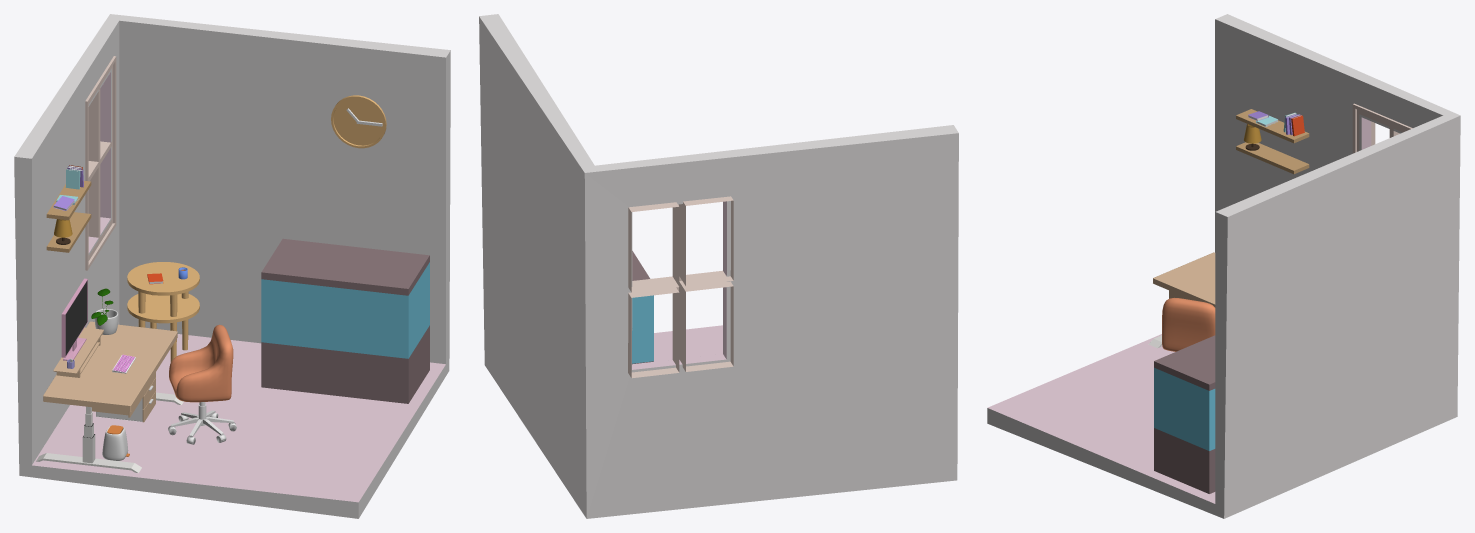
File: room-finale.glb
3 renders of one model, left to right at view 1: azimuth 30°, elevation 25°; view 2: azimuth 150°, elevation 25°; view 3: azimuth 270°, elevation 25°, orthographic. The views are drawn at different scales.
Visible parts, largest first — view 1: Room, Cube.020, AquariumGlass, Table top, Plane, Cube.013, Cylinder.006, Cylinder.003, Cylinder.004, Table top holder, Table leg holder, Screen (+6 smaller); view 2: Room, Plane, AquariumGlass; view 3: Room, Cube.020, AquariumGlass, Cube.013, Table top, Plane, Cube.006, Cube.005.
Part boxes in pixels (box(x1,y1,x2,y2)): Room: box(14, 14, 450, 518); Cube.020: box(261, 238, 429, 403); AquariumGlass: box(261, 262, 429, 358); Table top: box(43, 321, 177, 411); Plane: box(85, 56, 116, 270); Cube.013: box(169, 324, 233, 402); Cylinder.006: box(331, 95, 386, 148); Cylinder.003: box(127, 262, 199, 295); Cylinder.004: box(127, 294, 199, 323); Table top holder: box(53, 327, 103, 377); Table leg holder: box(36, 392, 183, 472); Screen: box(65, 281, 87, 355); Room: box(479, 14, 958, 518); Plane: box(628, 196, 733, 378); AquariumGlass: box(632, 295, 653, 363); Room: box(987, 14, 1460, 518); Cube.020: box(1154, 335, 1215, 493); AquariumGlass: box(1154, 367, 1215, 450); Cube.013: box(1162, 297, 1215, 351); Table top: box(1153, 252, 1215, 307); Plane: box(1352, 103, 1412, 153); Cube.006: box(1236, 142, 1309, 174); Cube.005: box(1236, 109, 1309, 143).
Bounding box in the file's own units: 13.25 × 9.37 × 13.05.
